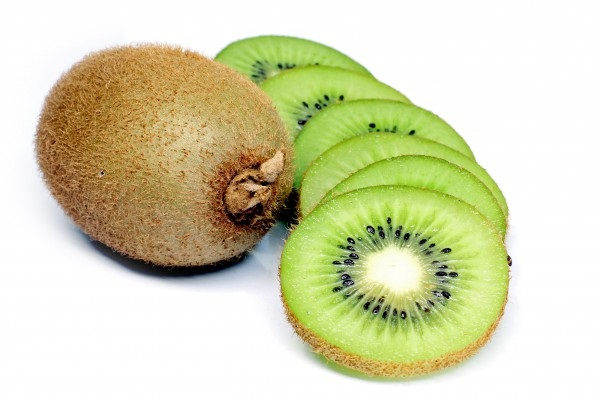kiwi: (38, 44, 296, 269), (281, 190, 506, 377)
